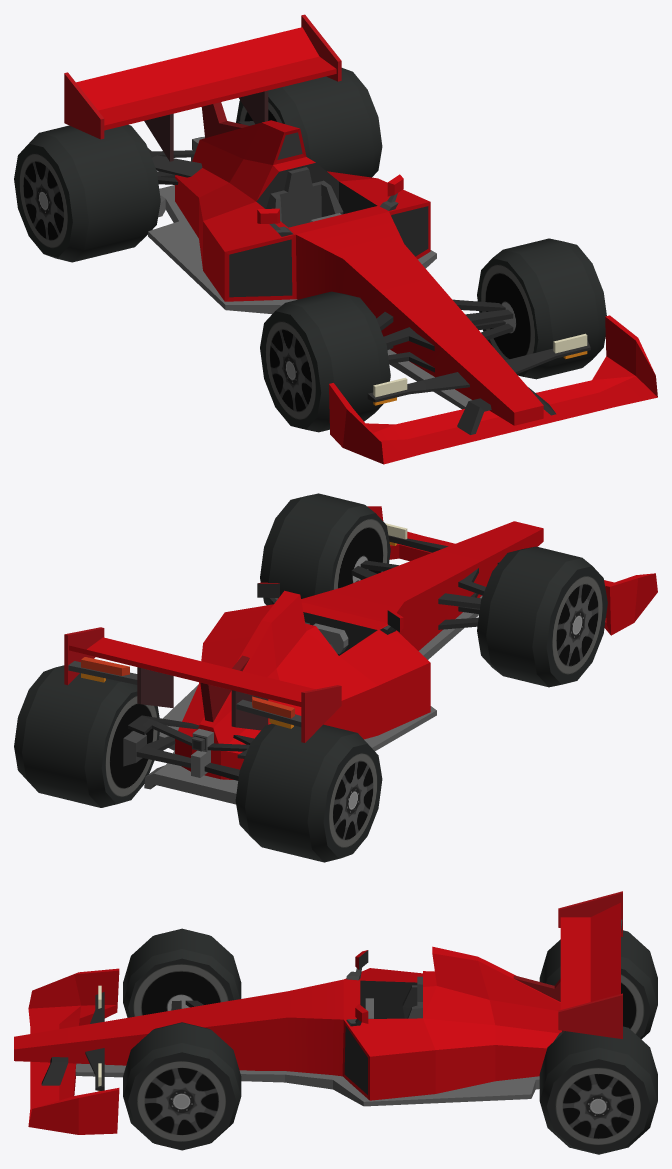
The model's file is RaceCarA.fbx.
3 views of the same model, one above another, from view 1: azimuth 30°, elevation 25°; view 2: azimuth 150°, elevation 25°; view 3: azimuth 270°, elevation 25° (orthographic). The views are drawn at different scales.
Parts seen in each view (by area): view 1: RaceCarA, TireBR, TireFR, TireFL, TireBL; view 2: RaceCarA, TireBR, TireFR, TireBL, TireFL; view 3: RaceCarA, TireBL, TireFL, TireFR, TireBR.
Part boxes in pixels (x1,y1,x2,y2): RaceCarA: (64, 14, 657, 464); TireBR: (14, 124, 160, 262); TireFR: (260, 291, 390, 432); TireFL: (477, 238, 606, 379); TireBL: (236, 68, 382, 177); RaceCarA: (64, 506, 657, 804); TireBR: (235, 723, 382, 862); TireFR: (477, 546, 607, 687); TireBL: (14, 665, 159, 807); TireFL: (260, 493, 390, 605); RaceCarA: (14, 891, 622, 1134); TireBL: (539, 1026, 657, 1154); TireFL: (123, 1022, 241, 1150); TireFR: (123, 928, 241, 1017); TireBR: (539, 930, 657, 1039).
Size of the model in its own units: 205 by 107 by 417.
